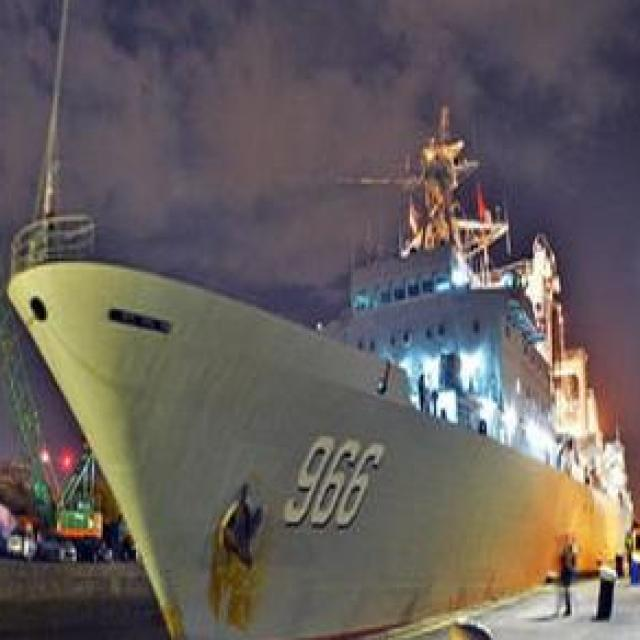navalvessels: (18, 113, 629, 638)
